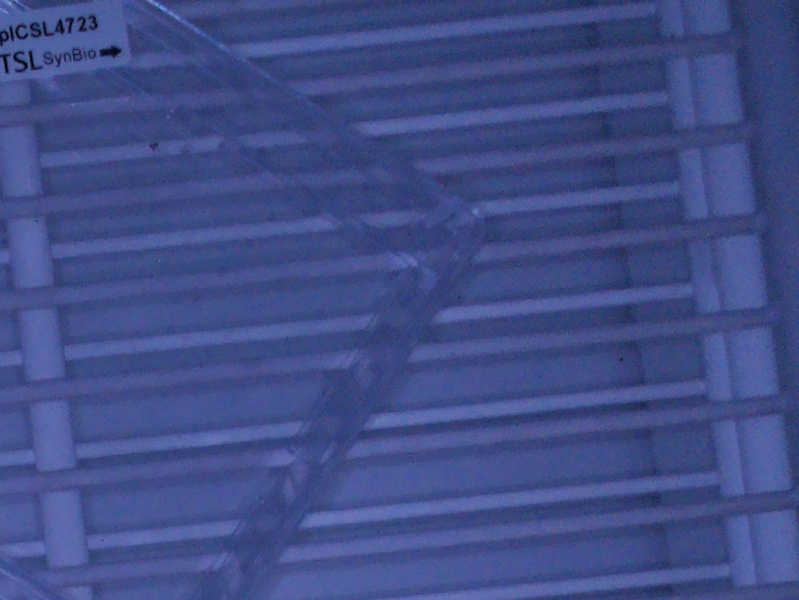plate: (1, 1, 491, 599)
